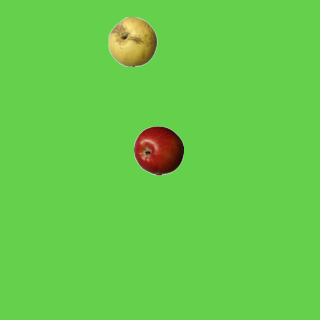Apple Braeburn: (133, 125, 183, 175)
Apple Golden 1: (107, 16, 157, 66)
